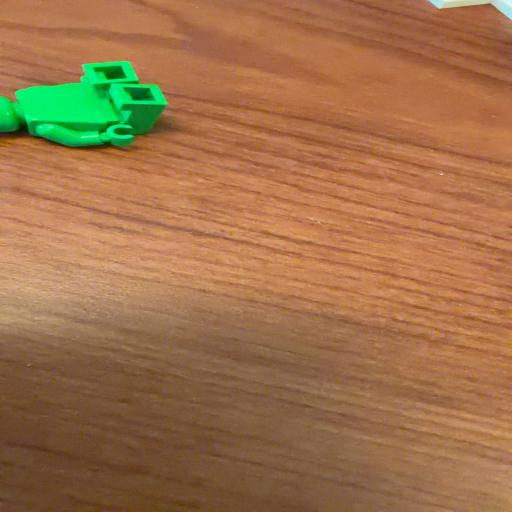UnoQ-minifig-detector: (0, 61, 167, 147)
